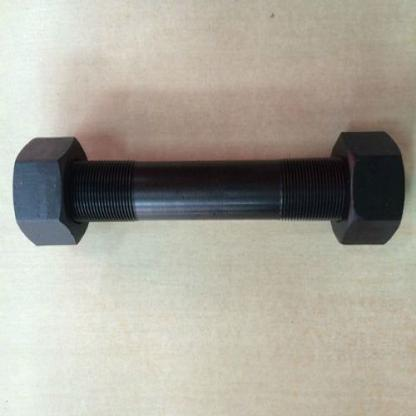FOD: (326, 127, 406, 250)
